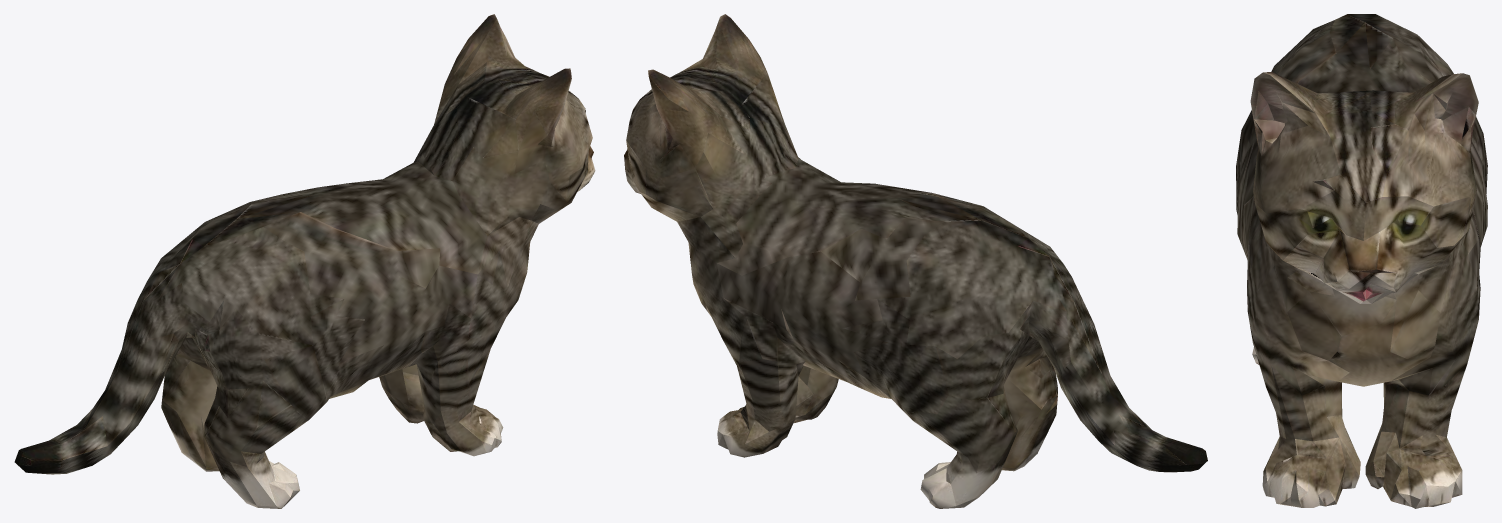
The model's file is LILBUBCAT-lo.glb.
3 renders of one model, left to right at view 1: azimuth 30°, elevation 25°; view 2: azimuth 150°, elevation 25°; view 3: azimuth 270°, elevation 25°, orthographic. The views are drawn at different scales.
Visible parts, largest first — view 1: output_unwrapped; view 2: output_unwrapped; view 3: output_unwrapped.
Boxes of the visible parts, x1,y1,x2,y2 form: output_unwrapped: [14, 14, 595, 508]; output_unwrapped: [624, 14, 1207, 508]; output_unwrapped: [1236, 14, 1487, 508].
Bounding box in the file's own units: 1.64 × 1 × 0.4772.
Materials: 1 (1 with a texture image).
